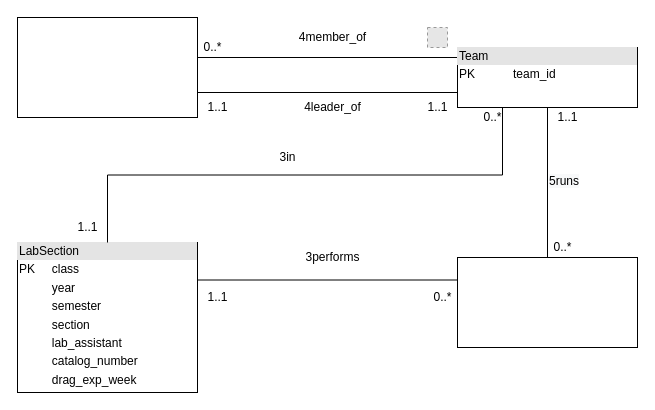
Image size: 655x410. Some labels were removed from this diagram. Grey dashed boxes stand in for pictures. Each missing label, with the centre of its shape:
Drag_exp_run PK run_number init_position distance time: the point at 547,302
Student PK student_id first_name last_name student_grade: the point at 107,67
